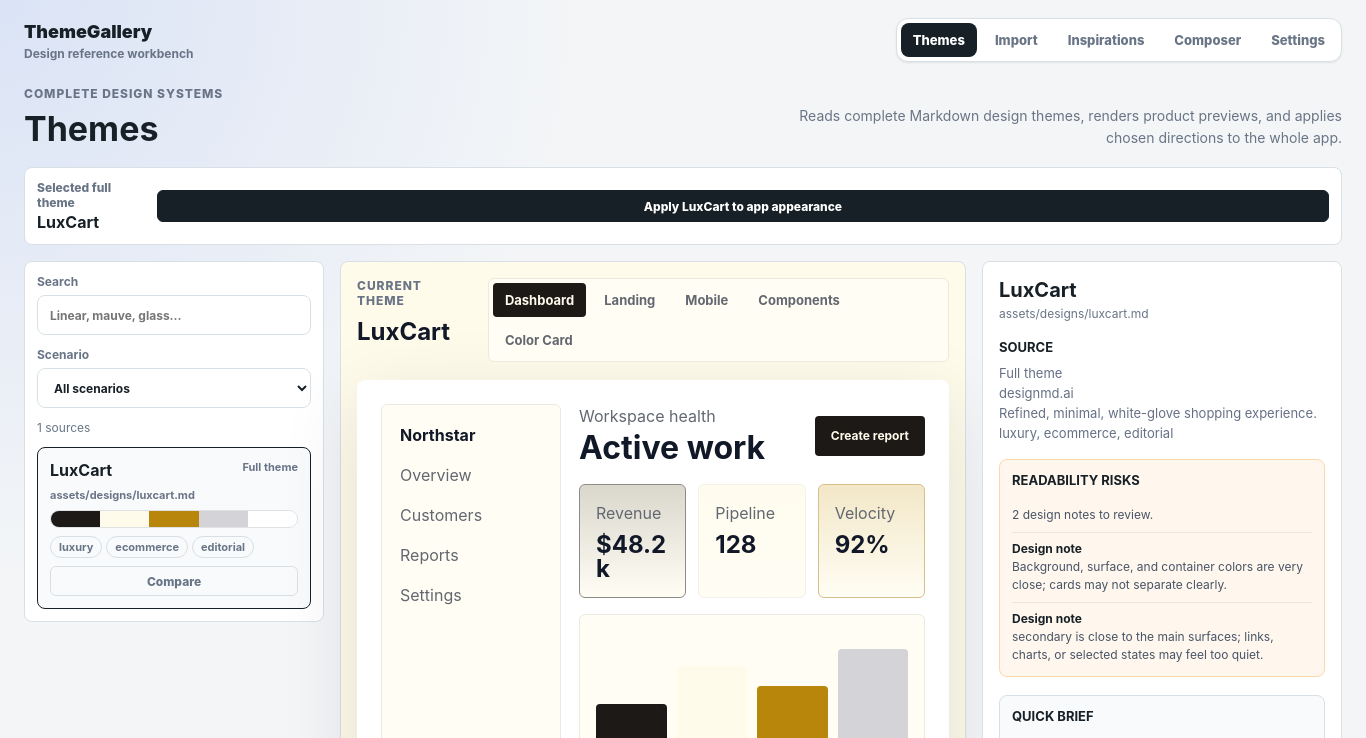
AppShell › opens image import as a dedicated page
Click the button "Import".
click(1016, 40)  # box [983,23,1050,57]
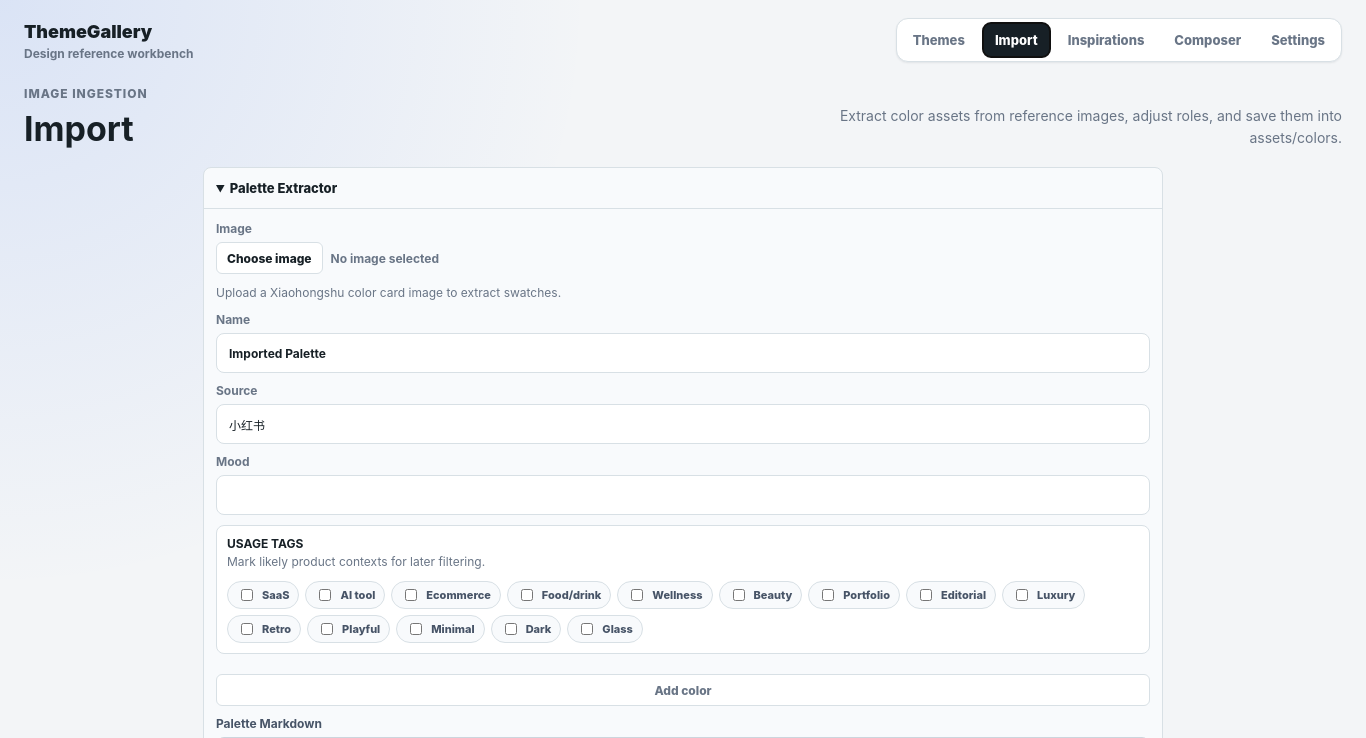
Check: the heading "Import" is shown, box [24,109,148,149]
Check: the heading "Palette Extractor" is shown, box [230,180,337,196]
